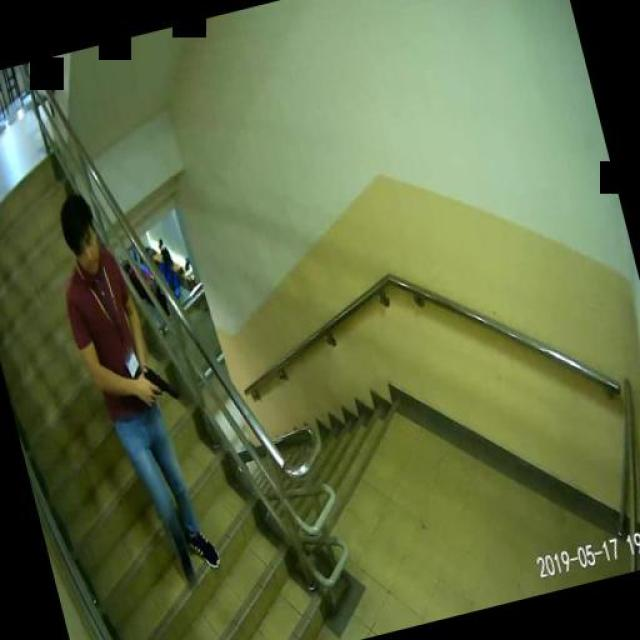gun: (142, 363, 178, 405)
